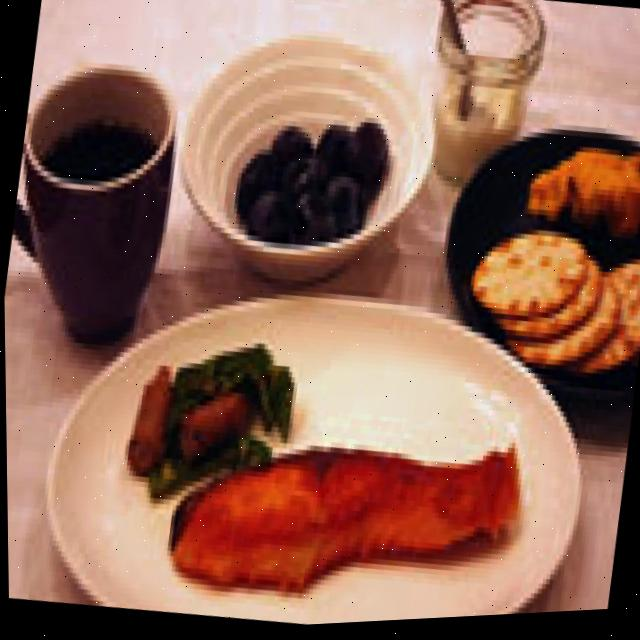熟制海鲜: (21, 286, 550, 633)
